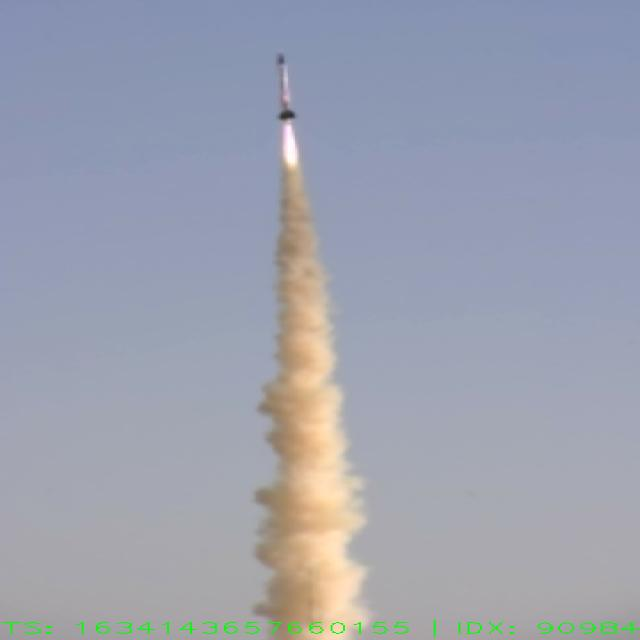Rocket: (275, 51, 297, 120)
